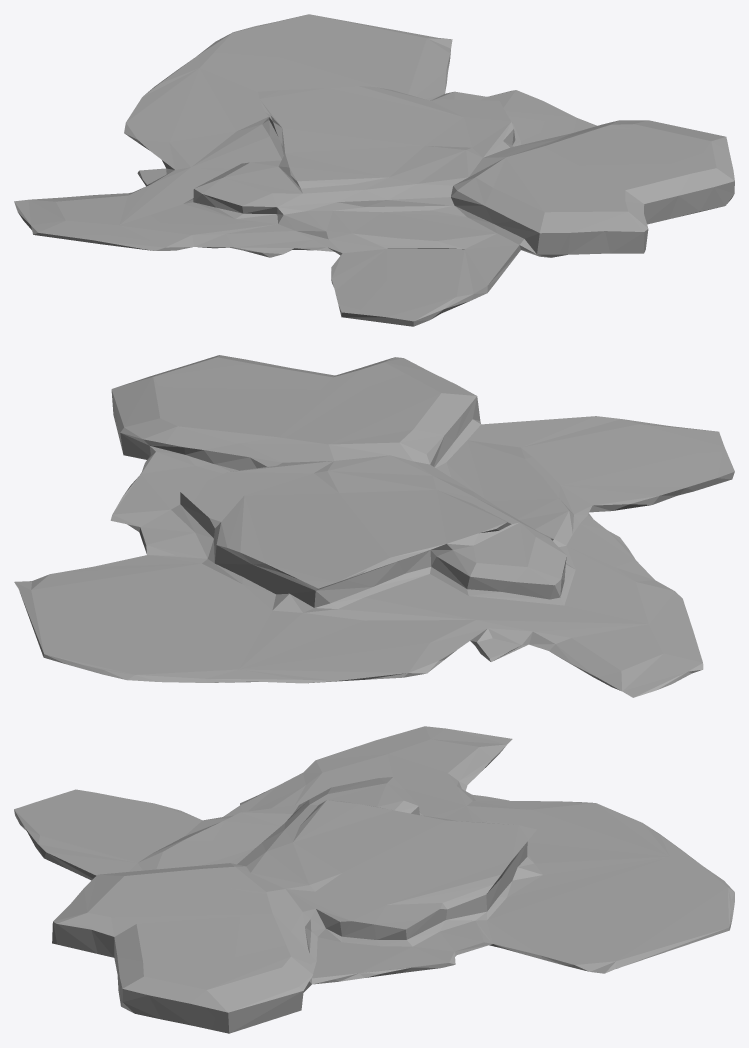
The model's file is M_Rock_Cliff_01.fbx.
3 views of the same model, one above another, from view 1: azimuth 30°, elevation 25°; view 2: azimuth 150°, elevation 25°; view 3: azimuth 270°, elevation 25° (orthographic). The views are drawn at different scales.
Parts seen in each view (by area): view 1: Rock_Cliff; view 2: Rock_Cliff; view 3: Rock_Cliff.
Part boxes in pixels (x1,y1,x2,y2): Rock_Cliff: [14, 14, 734, 326]; Rock_Cliff: [14, 355, 734, 697]; Rock_Cliff: [14, 726, 734, 1033].
Size of the model in its own units: 556 by 37.43 by 550.
